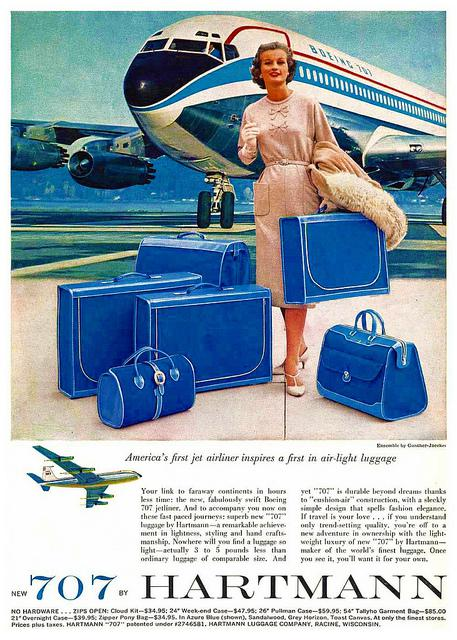Airplane: (23, 18, 439, 186)
